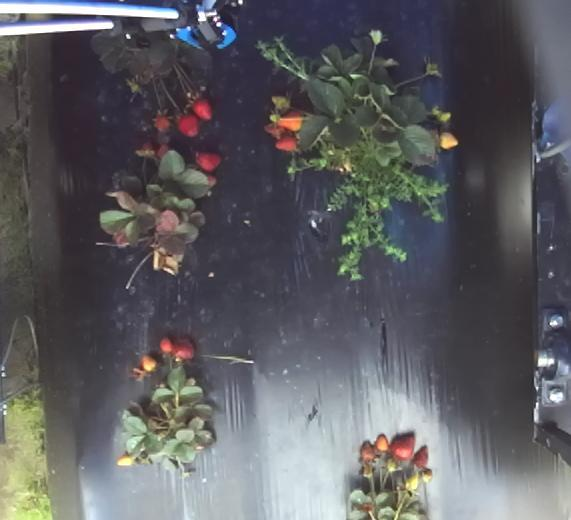mature: (389, 431, 418, 465), (170, 335, 199, 363), (195, 149, 223, 174), (277, 110, 307, 131), (175, 114, 199, 138), (415, 445, 433, 473), (276, 134, 299, 153), (193, 101, 214, 121), (262, 118, 283, 137), (139, 139, 155, 162), (158, 334, 173, 353), (156, 143, 166, 165)
